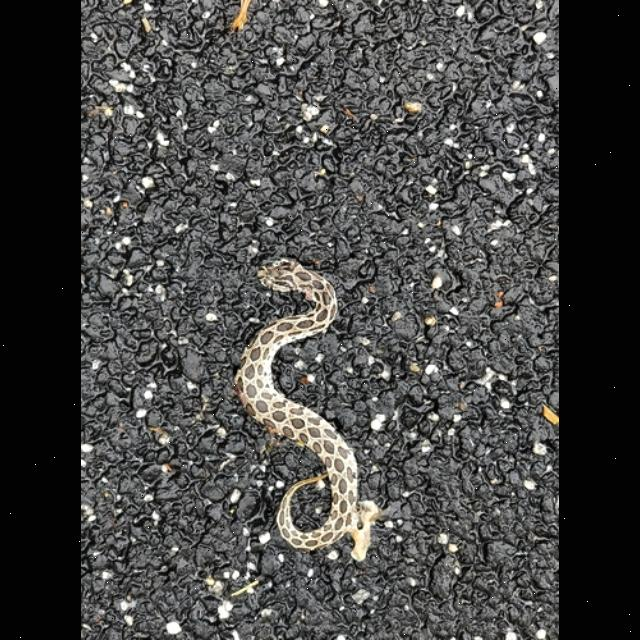snake: (237, 239, 367, 563)
